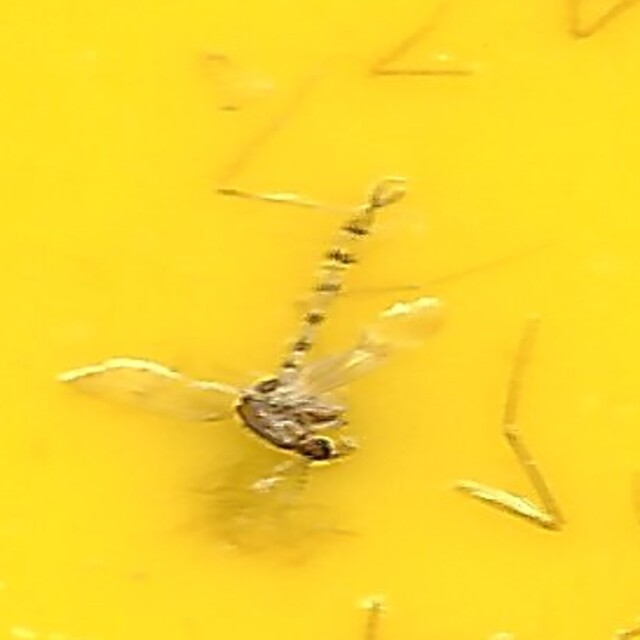Nematocera: (234, 174, 406, 466)
